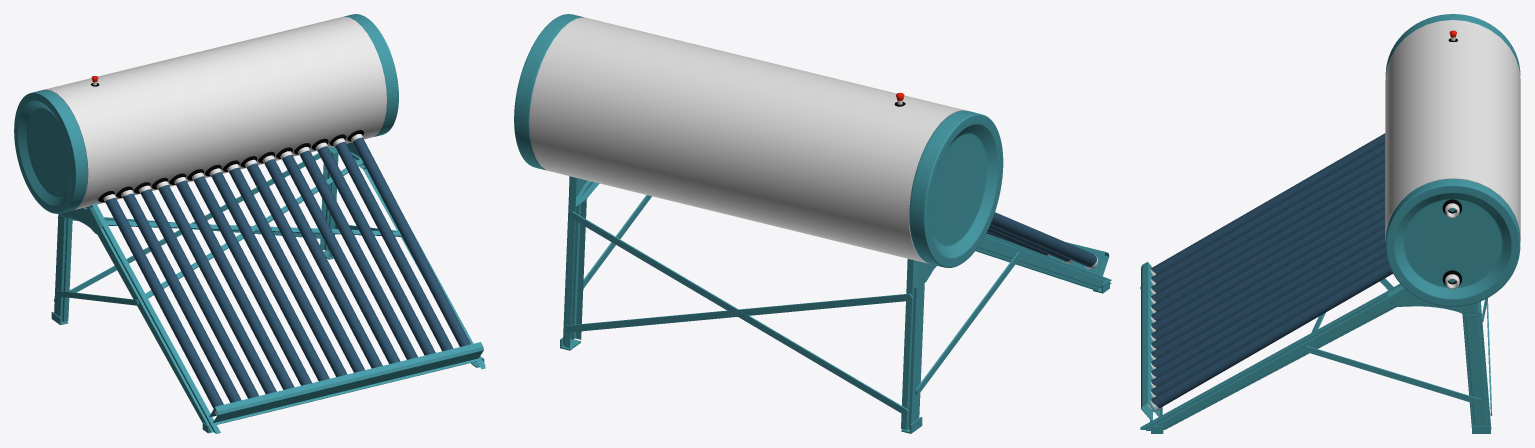
File: solar-heater.glb
3 renders of one model, left to right at view 1: azimuth 30°, elevation 25°; view 2: azimuth 150°, elevation 25°; view 3: azimuth 270°, elevation 25°, orthographic. The views are drawn at different scales.
Parts seen in each view (by area): view 1: Cylinder.003, Cylinder, Frame work, Cylinder.001, Plane.001, Cylinder.002, Cylinder.005, Cylinder.004; view 2: Cylinder, Cylinder.001, Frame work, Plane.001, Cylinder.002, Cylinder.003; view 3: Cylinder.003, Cylinder, Cylinder.002, Frame work, Cylinder.001, Cylinder.004.
Boxes of the visible parts, box(x1,y1,x2,y2) form: Cylinder.003: box(103, 137, 470, 408); Cylinder: box(42, 16, 386, 210); Frame work: box(54, 142, 485, 425); Cylinder.001: box(14, 90, 87, 213); Plane.001: box(51, 203, 220, 433); Cylinder.002: box(344, 14, 398, 136); Cylinder.005: box(98, 130, 363, 202); Cylinder.004: box(103, 134, 362, 415); Cylinder: box(529, 17, 967, 263); Cylinder.001: box(909, 110, 1003, 267); Frame work: box(560, 176, 1109, 414); Plane.001: box(901, 233, 1111, 433); Cylinder.002: box(514, 14, 583, 170); Cylinder.003: box(986, 212, 1096, 267); Cylinder.003: box(1151, 133, 1392, 407); Cylinder: box(1385, 20, 1520, 241); Cylinder.002: box(1385, 179, 1520, 306); Frame work: box(1140, 262, 1492, 433); Cylinder.001: box(1385, 14, 1520, 76); Cylinder.004: box(1147, 269, 1160, 411).
Size of the model in its own units: 139 by 101 by 129.
